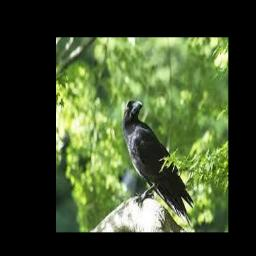Crow: (123, 98, 194, 229)
